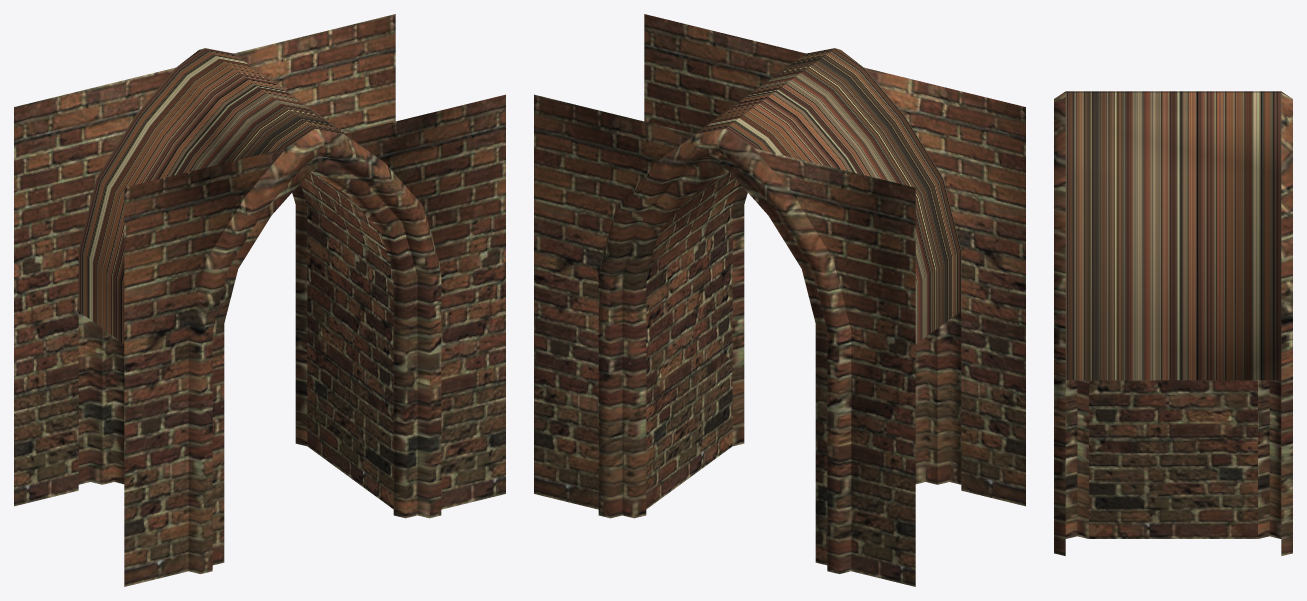
The model's file is chapel_door1.obj.
The picture shows the model from 3 angles, left to right: view 1: azimuth 30°, elevation 25°; view 2: azimuth 150°, elevation 25°; view 3: azimuth 270°, elevation 25°; orthographic projection. The views are drawn at different scales.
Visible parts, largest first — view 1: Cone001; view 2: Cone001; view 3: Cone001.
Boxes of the visible parts, x1,y1,x2,y2 form: Cone001: [14, 14, 505, 586]; Cone001: [534, 14, 1025, 586]; Cone001: [1054, 91, 1292, 555].
Bounding box in the file's own units: 2048 × 2112 × 1135.
